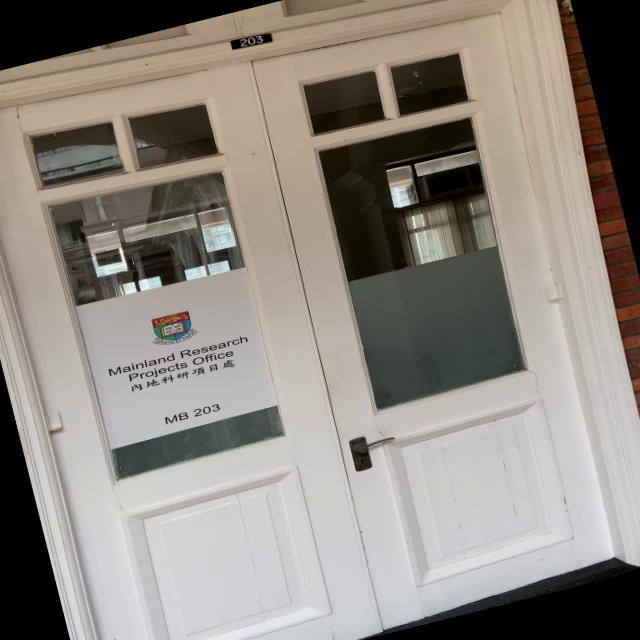room203: (228, 28, 280, 52)
room203Window: (158, 399, 224, 426)
